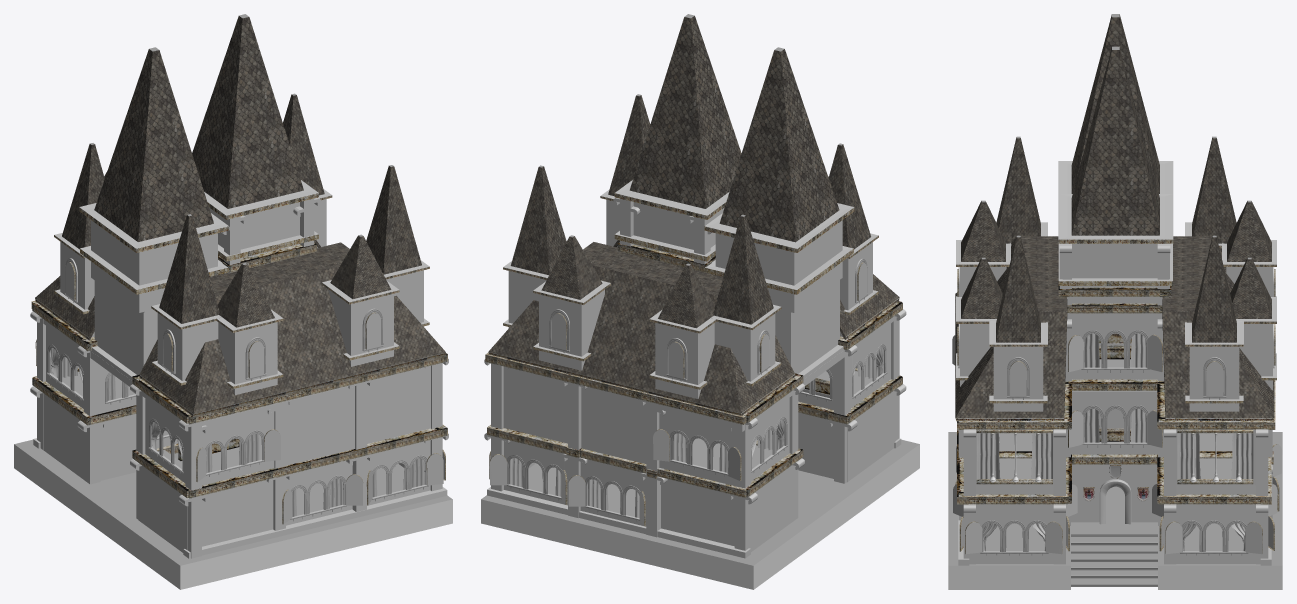
The model's file is Velendria_Royal_House_1.fbx.
The picture shows the model from 3 angles, left to right: view 1: azimuth 30°, elevation 25°; view 2: azimuth 150°, elevation 25°; view 3: azimuth 270°, elevation 25°; orthographic projection.
Parts seen in each view (by area): view 1: polySurface215, pCube82, polySurface235, polySurface206, pCube65, polySurface214, Modular_leftwall_low62, fancyWindowWall9, Modular_leftwall_low64, Modular_leftwall_low63, polySurface244, Modular_leftwall_low67 (+26 smaller); view 2: polySurface214, pCube82, polySurface235, pCube65, polySurface201, polySurface215, Modular_leftwall_low63, Modular_leftwall_low62, fancyWindowWall6, Modular_leftwall_low64, polySurface250, Modular_leftwall_low67 (+27 smaller); view 3: pCube65, polySurface214, polySurface215, polySurface235, polySurface201, polySurface206, polySurface240, pCube82, M_Round_Door_Arch3, fancyWindowWall12, fancyWindowWall8, fancyWindowWall5 (+36 smaller).
Boxes of the visible parts, left/top/right/bottom form: polySurface215: left=151, top=165, right=429, bottom=395; pCube82: left=79, top=47, right=229, bottom=312; polySurface235: left=14, top=439, right=452, bottom=589; polySurface206: left=139, top=242, right=445, bottom=416; pCube65: left=192, top=14, right=318, bottom=261; polySurface214: left=54, top=93, right=332, bottom=314; Modular_leftwall_low62: left=138, top=453, right=273, bottom=552; fancyWindowWall9: left=145, top=398, right=274, bottom=485; Modular_leftwall_low64: left=286, top=386, right=354, bottom=465; Modular_leftwall_low63: left=43, top=393, right=168, bottom=480; polySurface244: left=367, top=365, right=430, bottom=443; Modular_leftwall_low67: left=94, top=280, right=157, bottom=374; polySurface214: left=503, top=165, right=781, bottom=398; pCube82: left=704, top=47, right=854, bottom=312; polySurface235: left=481, top=439, right=919, bottom=589; pCube65: left=614, top=14, right=741, bottom=261; polySurface201: left=488, top=242, right=795, bottom=415; polySurface215: left=600, top=94, right=878, bottom=314; Modular_leftwall_low63: left=661, top=465, right=792, bottom=551; Modular_leftwall_low62: left=798, top=391, right=896, bottom=482; fancyWindowWall6: left=659, top=398, right=789, bottom=485; Modular_leftwall_low64: left=581, top=387, right=646, bottom=463; polySurface250: left=503, top=366, right=567, bottom=443; Modular_leftwall_low67: left=775, top=280, right=839, bottom=373; pCube65: left=1058, top=46, right=1173, bottom=303; polySurface214: left=1185, top=136, right=1276, bottom=411; polySurface215: left=956, top=136, right=1047, bottom=411; polySurface235: left=948, top=432, right=1282, bottom=589; polySurface201: left=1162, top=236, right=1274, bottom=421; polySurface206: left=955, top=236, right=1067, bottom=421; polySurface240: left=1071, top=537, right=1157, bottom=586; pCube82: left=1058, top=14, right=1173, bottom=193; M_Round_Door_Arch3: left=1071, top=464, right=1157, bottom=524; fancyWindowWall12: left=1072, top=313, right=1157, bottom=379; fancyWindowWall8: left=1071, top=391, right=1157, bottom=454; fancyWindowWall5: left=1176, top=504, right=1255, bottom=563.
Size of the model in its own units: 2506 by 4133 by 2611.
